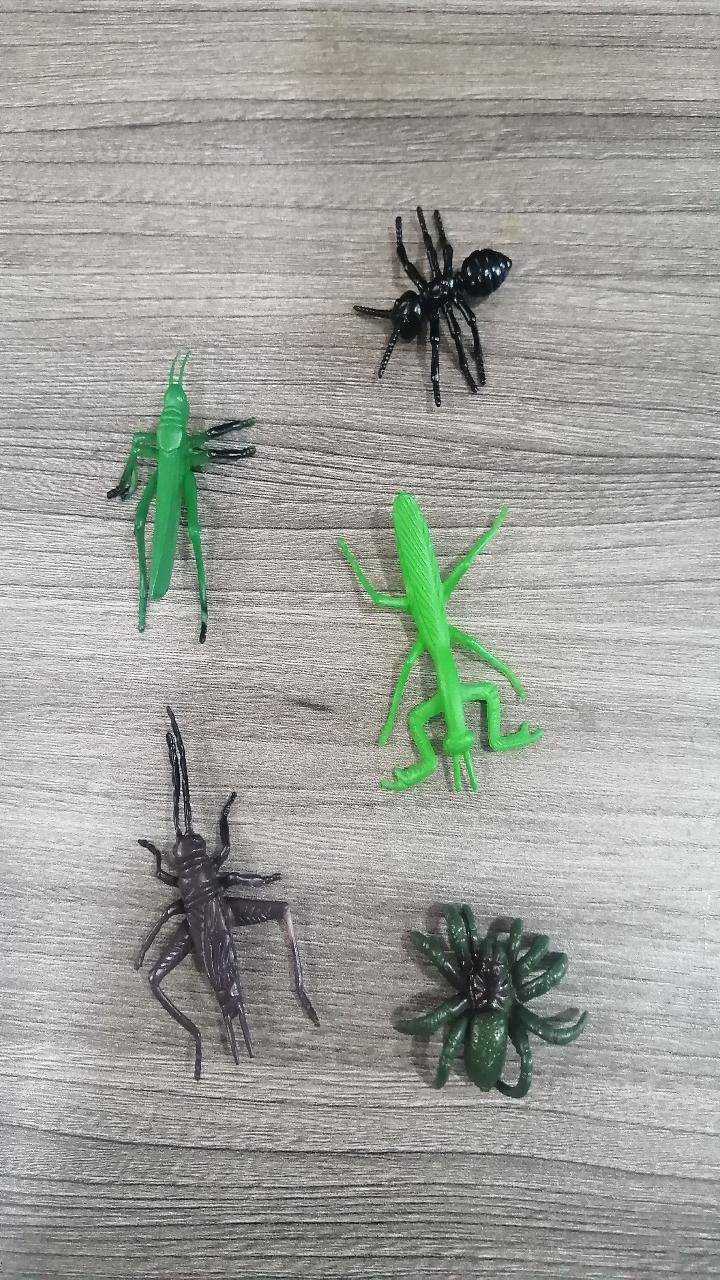intruso: (103, 691, 358, 1074), (300, 451, 561, 795), (69, 337, 271, 677), (377, 860, 614, 1102), (341, 155, 543, 412)
